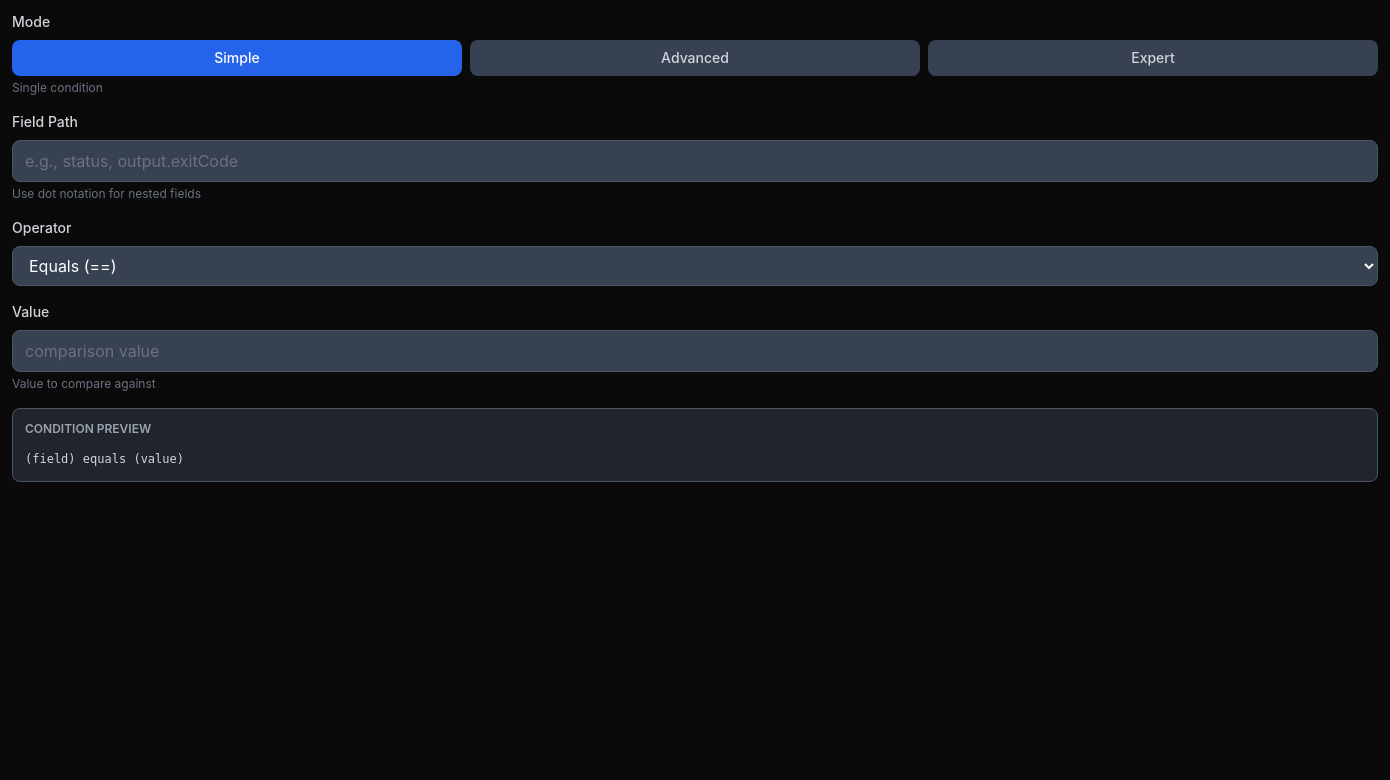
Test case: ConditionalNodeSettings › mode transitions › switches from expert to advanced
Click the button "Expert". click: (1153, 58)
box: [928,40,1378,76]
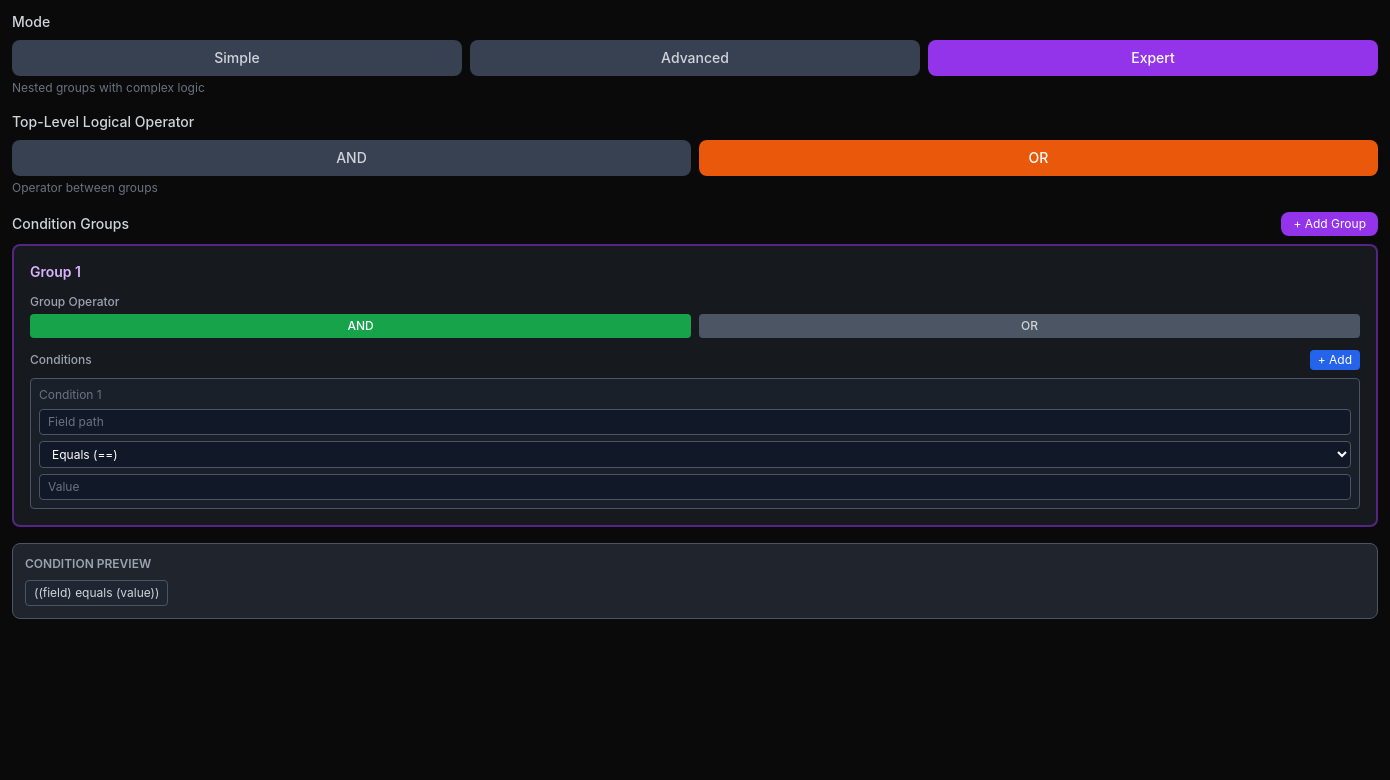
Click the button "Advanced". click: (695, 58)
box: [470,40,920,76]
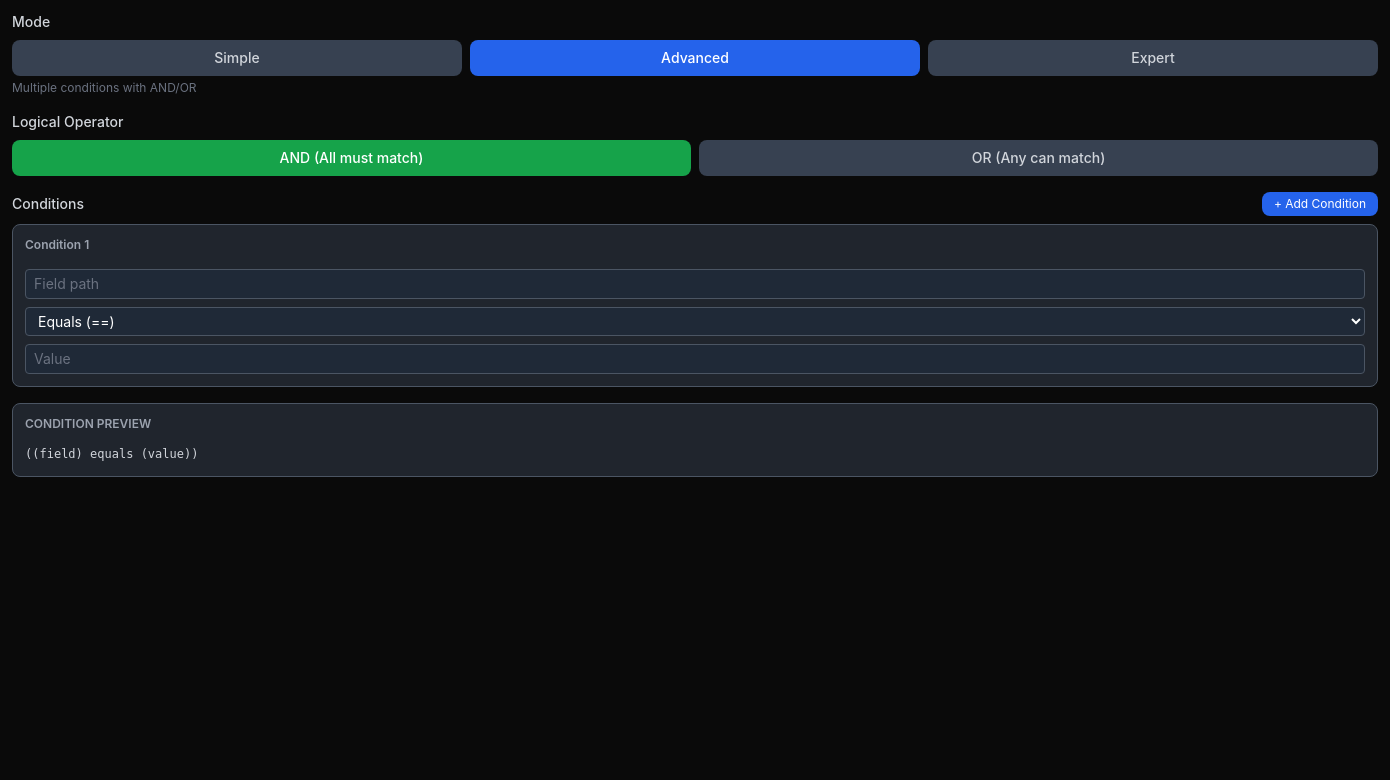
expect the button "+ Add Condition" is shown: met, box [1262,192,1378,216]
